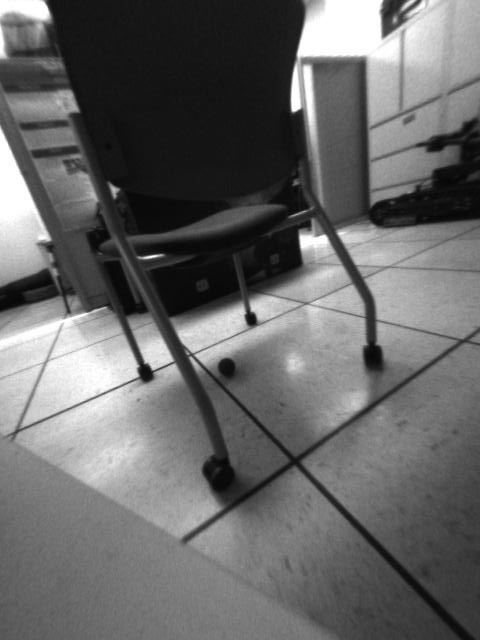dogtoy: (213, 351, 240, 383)
